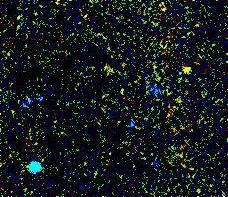star: (172, 54, 202, 84)
